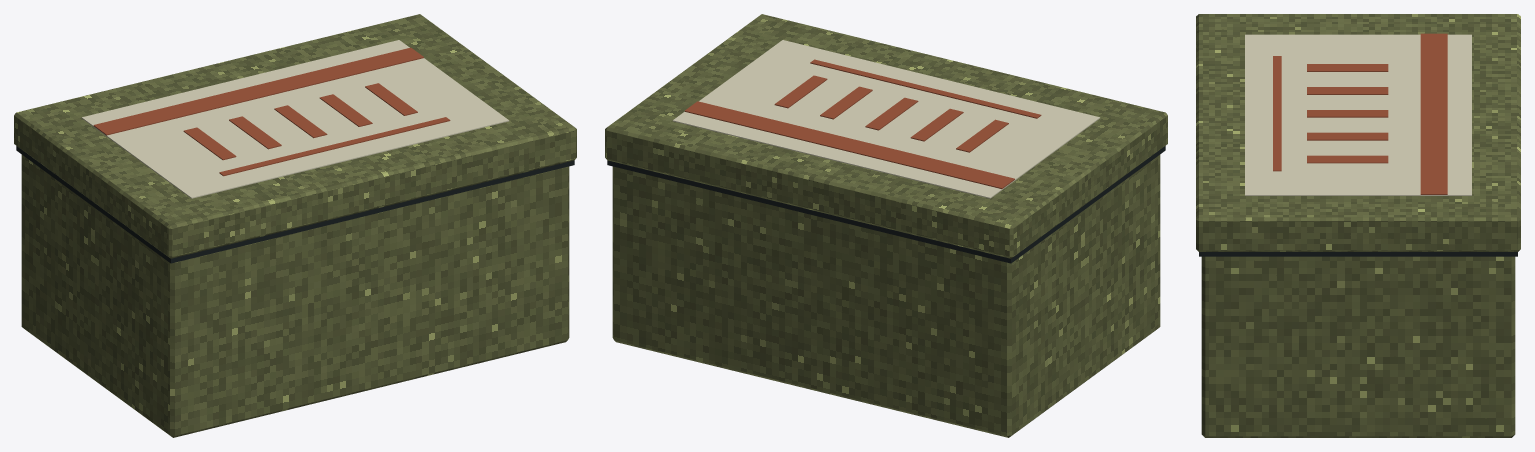
The model's file is pistol_ammo.glb.
3 renders of one model, left to right at view 1: azimuth 30°, elevation 25°; view 2: azimuth 150°, elevation 25°; view 3: azimuth 270°, elevation 25°, orthographic. The views are drawn at different scales.
Visible parts, largest first — view 1: AmmoBox; view 2: AmmoBox; view 3: AmmoBox.
Boxes of the visible parts, x1,y1,x2,y2 form: AmmoBox: (14, 14, 576, 437); AmmoBox: (605, 14, 1167, 437); AmmoBox: (1196, 14, 1520, 437).
Bounding box in the file's own units: 0.09 × 0.046 × 0.06.
Materials: 4 (1 with a texture image).
